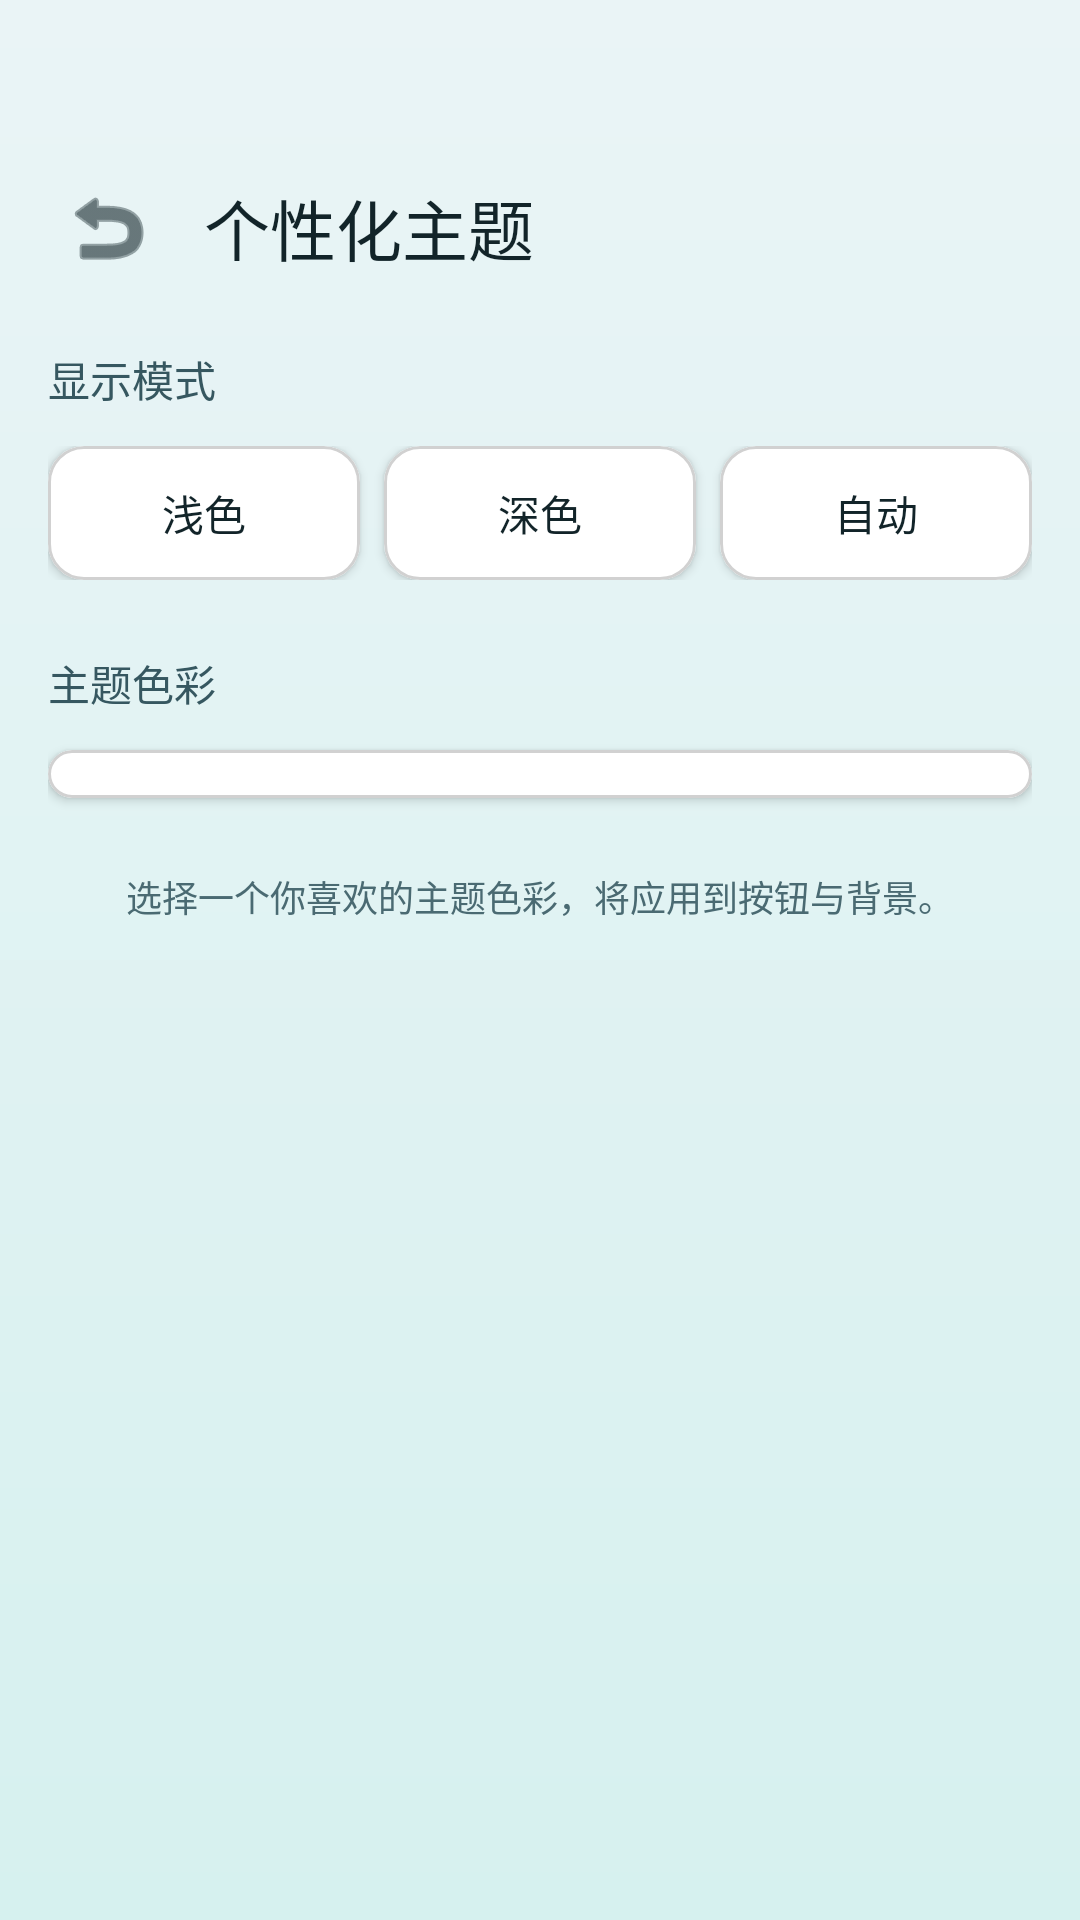

Named icons in this screenshot (1080×1920) and their centers, (x=x, y=y):
revert: (x=109, y=228)
